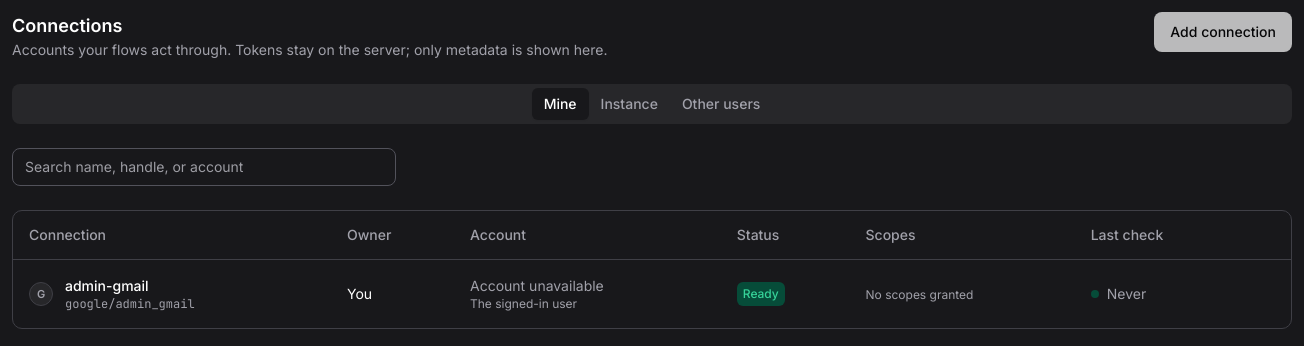
Test: ConnectionsPage tabs › keeps other users' private connections out of a superuser's Mine tab
expect the text "admin-gmail" is shown: met, box [65,276,149,294]
expect the text "bob-slack" is not shown: met
Click the tab "Other users". click: (721, 104)
box: [670,88,772,120]
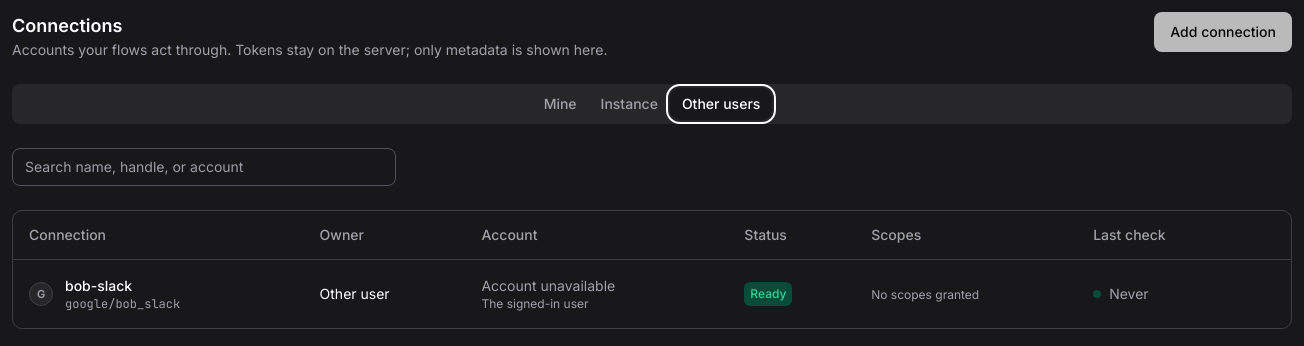
expect the text "bob-slack" is shown: met, box [65,276,132,294]
expect the text "Other user" is shown: met, box [320,284,390,302]
expect the text "admin-gmail" is gone: met
Click the tab "Instance". click: (629, 104)
box: [589,88,670,120]
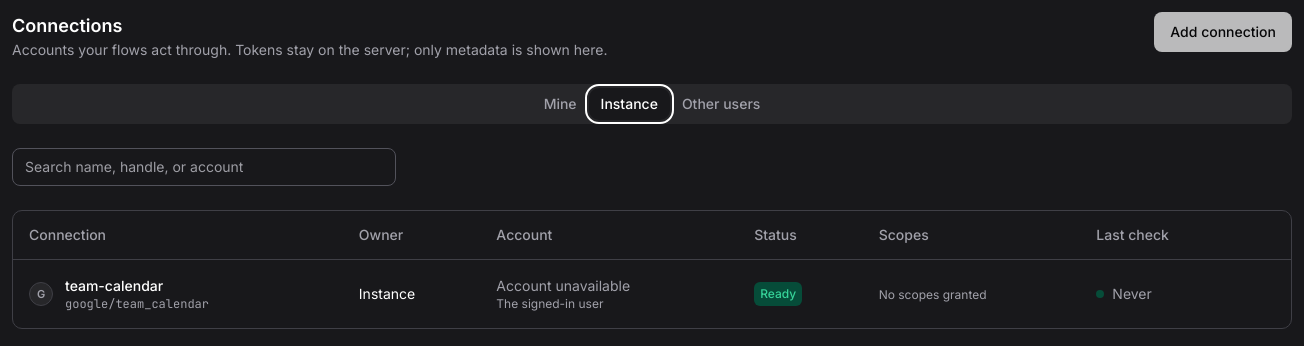
expect the text "team-calendar" is shown: met, box [65,276,163,294]
expect the text "bob-slack" is gone: met
